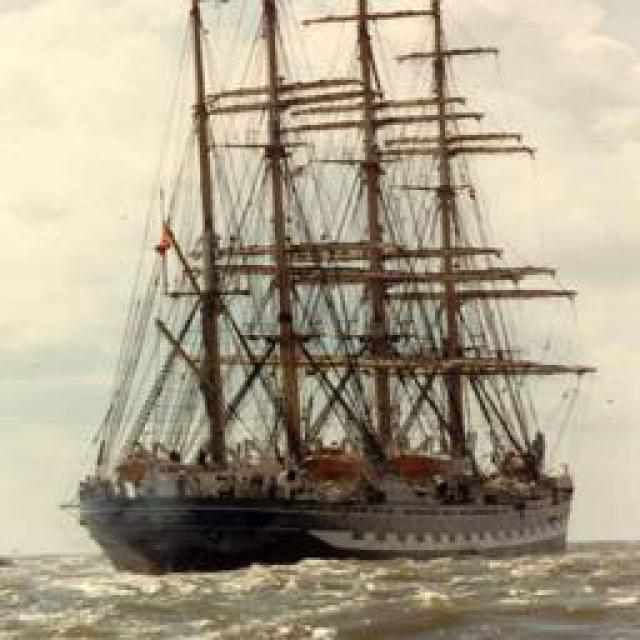Ship: (88, 4, 606, 587)
